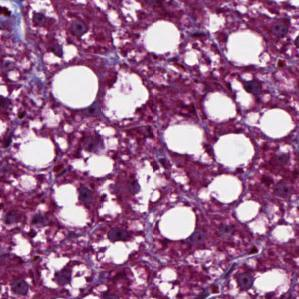steatosis: (47, 63, 98, 112), (164, 120, 209, 159), (257, 106, 296, 142), (158, 207, 200, 240), (145, 21, 182, 57)
